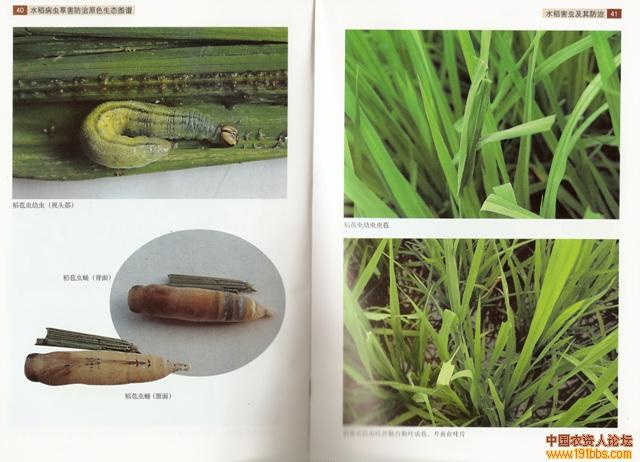pest: (80, 100, 238, 169), (24, 351, 191, 386), (126, 284, 272, 324)
